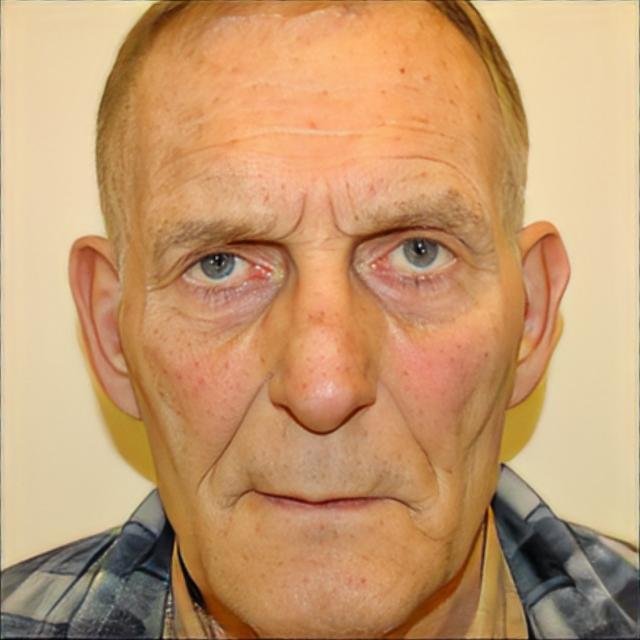content: (100, 0, 530, 640)
